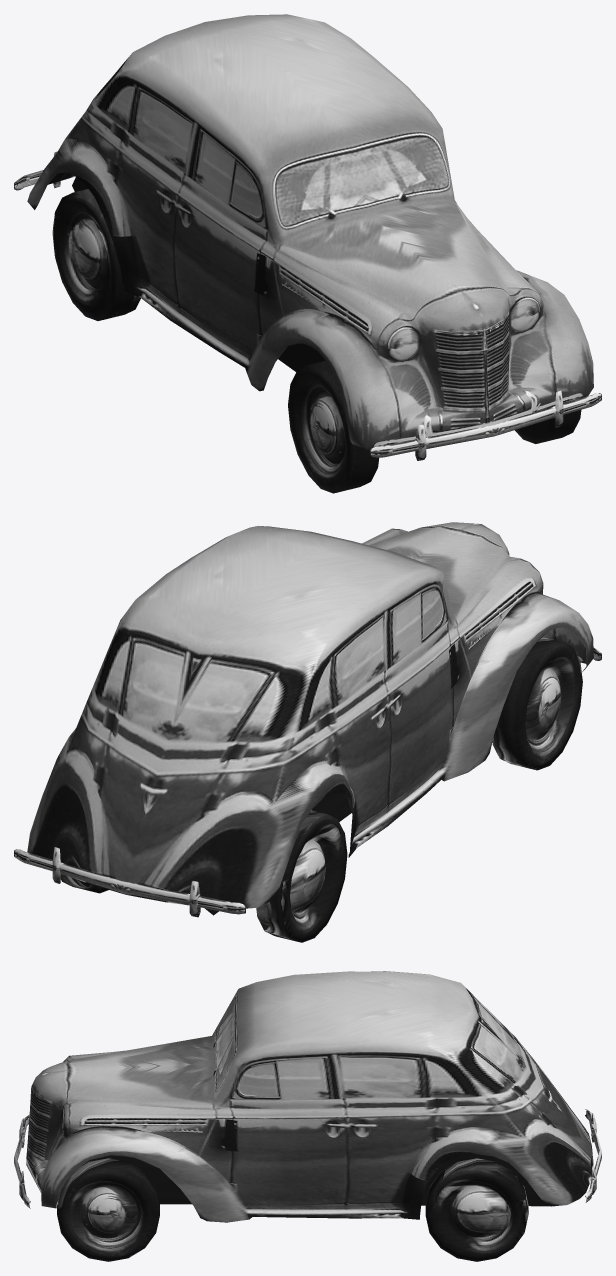
The picture shows the model from 3 angles, top to bottom: view 1: azimuth 30°, elevation 25°; view 2: azimuth 150°, elevation 25°; view 3: azimuth 270°, elevation 25°; orthographic projection. The views are drawn at different scales.
Parts seen in each view (by area): view 1: moskvich_400.001; view 2: moskvich_400.001; view 3: moskvich_400.001.
Boxes of the visible parts, <box> form: moskvich_400.001: <box>14,14,601,493</box>; moskvich_400.001: <box>14,522,601,942</box>; moskvich_400.001: <box>14,971,601,1261</box>.
Bounding box in the file's own units: 1.74 × 1.9 × 4.58.
Materials: 1 (1 with a texture image).
